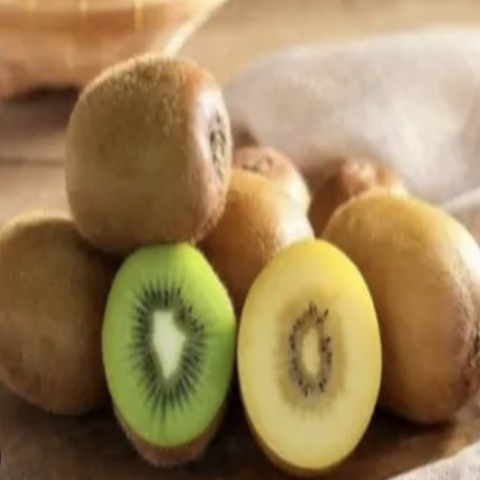kiwi: (310, 151, 480, 459), (52, 47, 246, 247)
